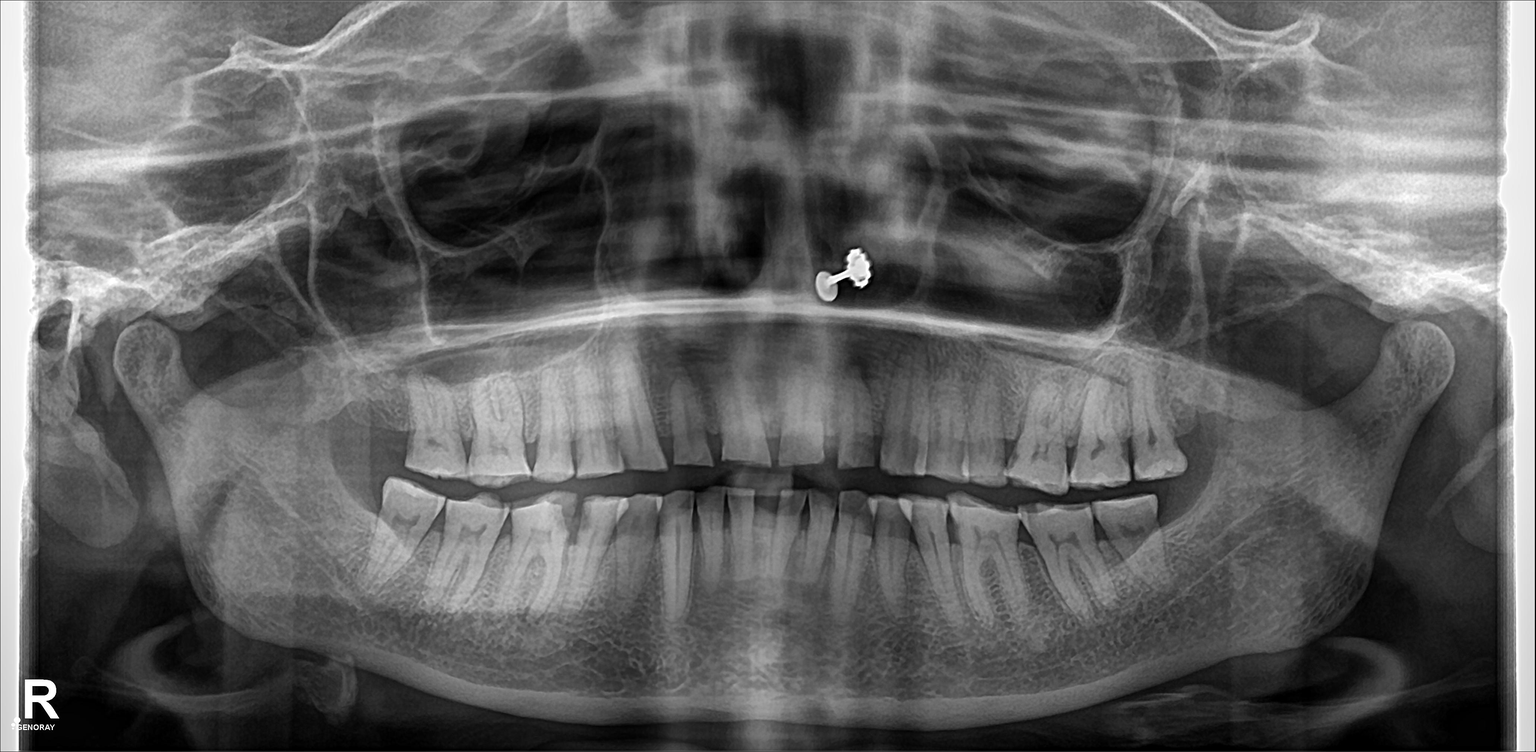Dental Caries: (551, 497, 593, 544)
Missing Tooth: (1166, 374, 1216, 450), (361, 383, 399, 474), (1166, 478, 1205, 548), (350, 475, 375, 557)
